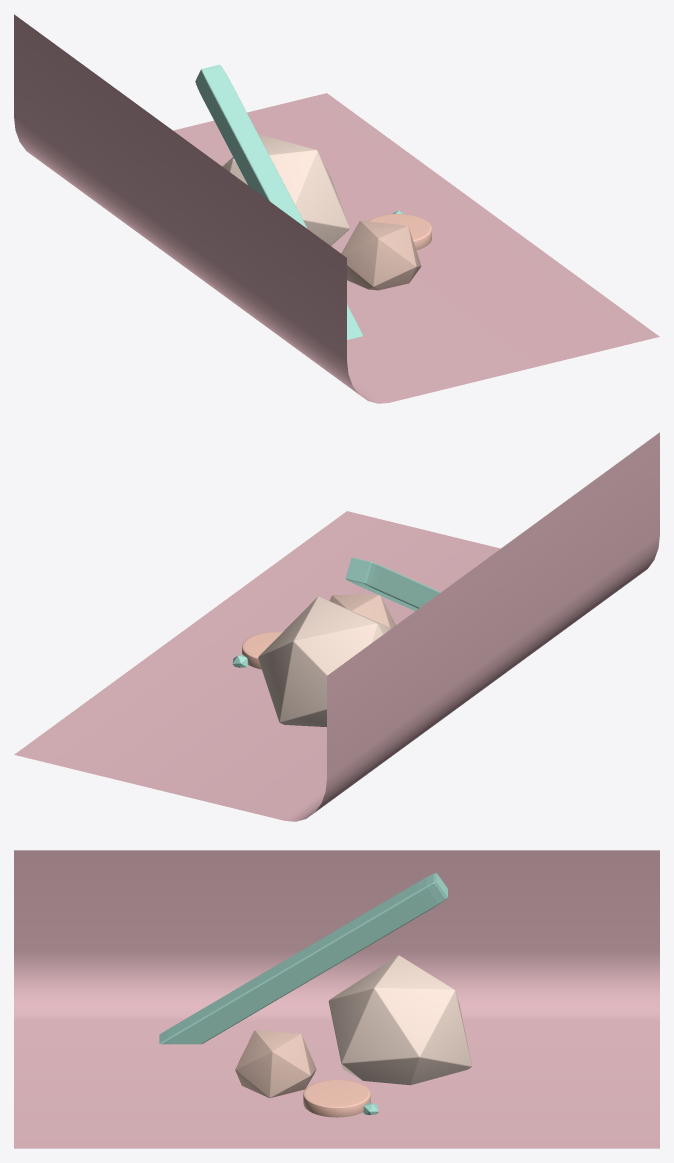
Rendered from 3d_Podium_Product_Showcase.fbx.
3 renders of one model, top to bottom at view 1: azimuth 30°, elevation 25°; view 2: azimuth 150°, elevation 25°; view 3: azimuth 270°, elevation 25°, orthographic. The views are drawn at different scales.
Visible parts, largest first — view 1: Plane, Cube, Icosphere, Icosphere.001, Cylinder; view 2: Plane, Icosphere, Cube, Icosphere.001, Cylinder; view 3: Plane, Icosphere, Cube, Icosphere.001, Cylinder.
Boxes of the visible parts, x1,y1,x2,y2 form: Plane: [14, 14, 659, 403]; Cube: [195, 64, 363, 339]; Icosphere: [222, 134, 349, 245]; Icosphere.001: [341, 220, 421, 290]; Cylinder: [368, 214, 431, 250]; Plane: [14, 432, 659, 821]; Icosphere: [258, 596, 391, 726]; Cube: [345, 557, 440, 610]; Icosphere.001: [329, 594, 395, 628]; Cylinder: [242, 632, 282, 669]; Plane: [14, 850, 659, 1148]; Icosphere: [328, 955, 471, 1085]; Cube: [159, 873, 447, 1044]; Icosphere.001: [235, 1030, 316, 1098]; Cylinder: [303, 1079, 370, 1117].
Size of the model in its own units: 1042 by 644 by 1921.
